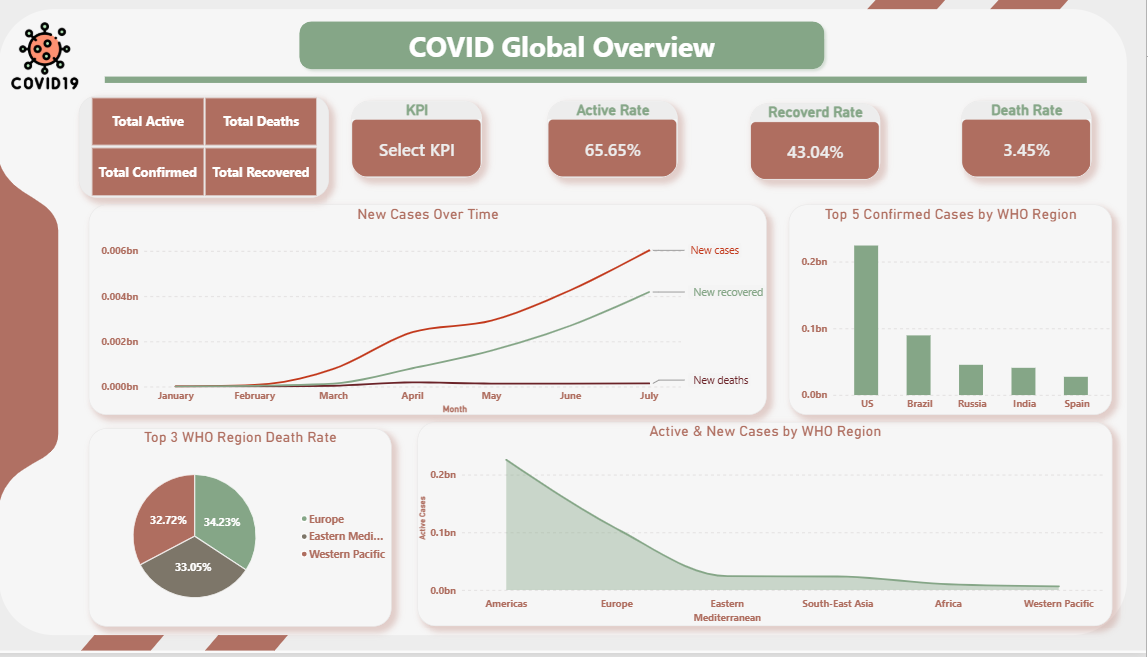

What the dashboard file says about the page in this screenshot:
{"tool":"powerbi","page":{"name":"Page 1","canvas":[1920,1080],"ordinal":0},"visuals":[{"type":"slicer","fields":{"Values":["Metrix.KPIs"]},"box":[162,162,412,168],"z":0},{"type":"cardVisual","title":"KPI","fields":{"Data":["Metrix.KPI"]},"box":[611.7,171.7,215,126.7],"z":1000},{"type":"cardVisual","title":"Recoverd Rate","fields":{"Data":["full_grouped.Recoverd Rate"]},"box":[1268,174,214.4,126.7],"z":2000},{"type":"cardVisual","title":"Active Rate","fields":{"Data":["full_grouped.Active Rate"]},"box":[935,171.7,214.4,126.7],"z":3000},{"type":"cardVisual","title":"Death Rate","fields":{"Data":["full_grouped.Death Rate"]},"box":[1615,171.7,214.4,126.7],"z":4000},{"type":"lineChart","title":" New Cases Over Time","fields":{"Category":["full_grouped.Date.Variation.Date Hierarchy.Month"],"Y":["Sum(full_grouped.New cases)","Sum(full_grouped.New deaths)","Sum(full_grouped.New recovered)"]},"box":[180,342,1116,346],"z":5000},{"type":"clusteredColumnChart","title":"Top 5 Confirmed Cases by WHO Region","fields":{"Category":["full_grouped.Country/Region"],"Y":["Sum(full_grouped.Confirmed)"]},"box":[1332,342,532,346],"z":6000},{"type":"image","box":[51.7,0,110,193.3],"z":7000},{"type":"shape","box":[517.5,30,882.9,97.1],"z":8000},{"type":"pieChart","title":"Top 3 WHO Region Death Rate","fields":{"Category":["full_grouped.WHO Region"],"Y":["full_grouped.Death Rate"]},"box":[180,710,498,326],"z":9000},{"type":"stackedAreaChart","title":" Active & New  Cases by WHO Region","fields":{"Category":["full_grouped.WHO Region"],"Y":["Sum(full_grouped.Active)"]},"box":[720,700,1144,336],"z":10000}]}

Visuals, with their boxes in screenshot pixels (x1, y1, x2, y2), scaled from the page's 1920x1080 canvas onto the 1148x657 screenshot:
slicer - Metrix.KPIs: left=97, top=99, right=343, bottom=201
"KPI" cardVisual: left=366, top=104, right=494, bottom=182
"Recoverd Rate" cardVisual: left=758, top=106, right=886, bottom=183
"Active Rate" cardVisual: left=559, top=104, right=687, bottom=182
"Death Rate" cardVisual: left=966, top=104, right=1094, bottom=182
" New Cases Over Time" lineChart: left=108, top=208, right=775, bottom=419
"Top 5 Confirmed Cases by WHO Region" clusteredColumnChart: left=796, top=208, right=1115, bottom=419
image: left=31, top=0, right=97, bottom=118
shape: left=309, top=18, right=837, bottom=77
"Top 3 WHO Region Death Rate" pieChart: left=108, top=432, right=405, bottom=630
" Active & New  Cases by WHO Region" stackedAreaChart: left=430, top=426, right=1115, bottom=630
